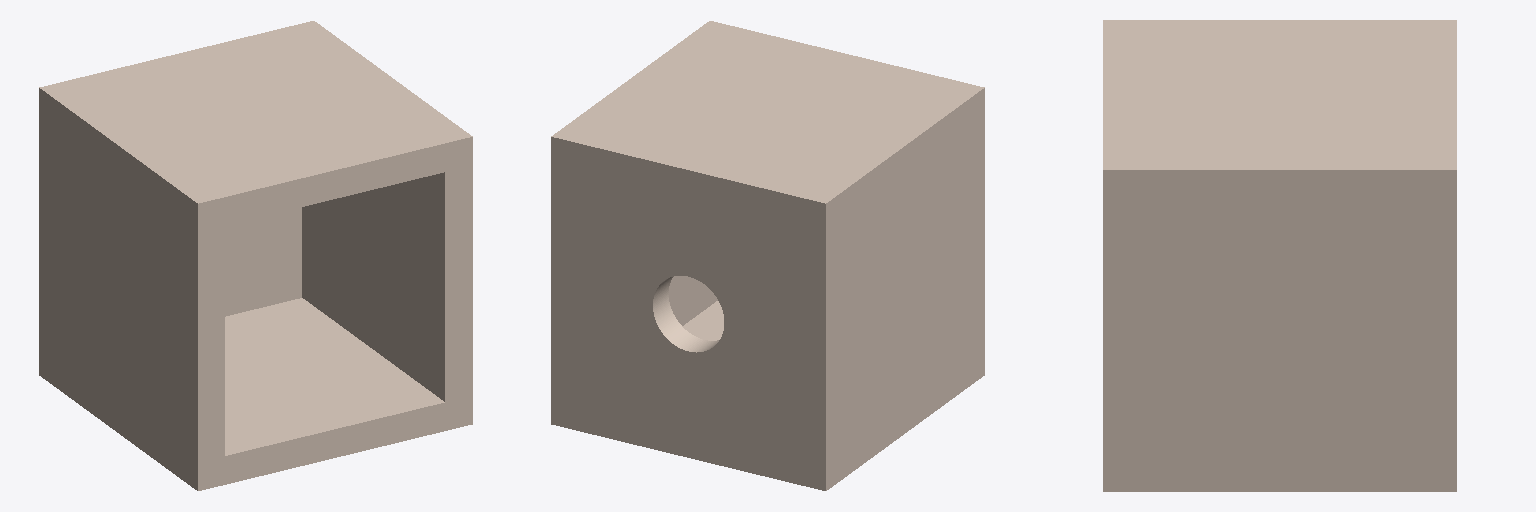
robot.urdf — board:
<?xml version="1.0"?>
<robot name="board">
    <material name="brown">
        <color rgba="0.87 0.81 0.76 1.0" />
    </material>

    <link concave="yes" name="board">
        <inertial>
            <origin xyz="0 0 0" rpy="0 0 0" />
            <mass value="1.86" />
            <inertia ixx="1" ixy="0" ixz="0" iyy="1" iyz="0" izz="1" />
        </inertial>

        <visual>
            <origin xyz="0 0 0" rpy="0 0 0" />
            <geometry>
                <mesh filename="package://bopt_gmm/objects/peg_in_hole_board/board_hard.obj" scale="1 1 1" />
            </geometry>
            <material name="brown" />
        </visual>

        <collision concave="yes">
            <origin xyz="0 0 0" rpy="0 0 0" />
            <geometry>
                <mesh filename="package://bopt_gmm/objects/peg_in_hole_board/board_hard.obj" scale="1 1 1" />
            </geometry>
        </collision>
    </link>

    <joint name="board__circle" type="fixed">
        <parent link="board" />
        <child link="circle" />
        <origin xyz="0.0 0.20 0.0" rpy="0 0 0" />
    </joint>

    <link name="circle">
        <inertial>
            <origin xyz="0 0 0" rpy="0 0 0" />
            <mass value="0" />
            <inertia ixx="1" ixy="0" ixz="0" iyy="1" iyz="0" izz="1" />
        </inertial>
    </link>

</robot>

--- Facts derived from the render (not from the file) ---
The picture shows the robot from 3 angles, left to right: view 1: azimuth 30°, elevation 25°; view 2: azimuth 150°, elevation 25°; view 3: azimuth 270°, elevation 25°; orthographic projection.
Model board with 2 links and 1 joints (1 fixed), rooted at board, posed every joint at zero.
Visible links, largest first — view 1: board; view 2: board; view 3: board.
Boxes of the visible links, x1,y1,x2,y2 form: board: (39,21,472,490); board: (551,21,984,490); board: (1103,20,1456,491).
Size in the robot's own frame: 0.2 by 0.2 by 0.2 metres.
Meshes: 1 distinct files referenced, 1 mesh visuals loaded (1 OBJ).